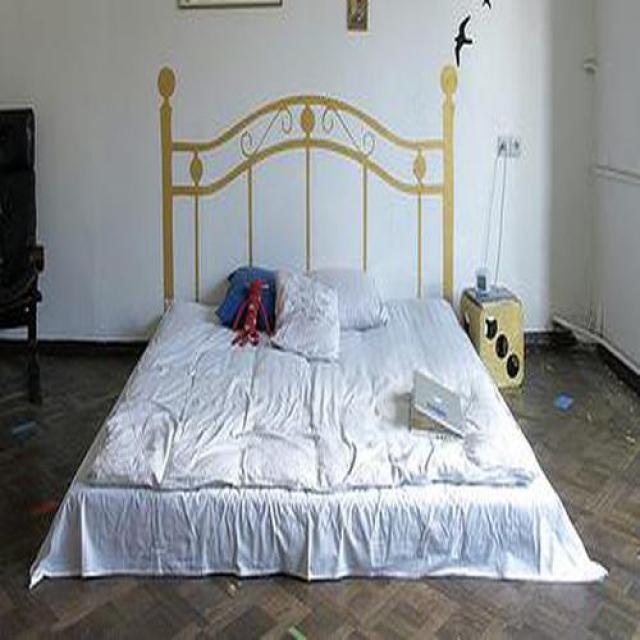bed: (29, 68, 582, 589)
